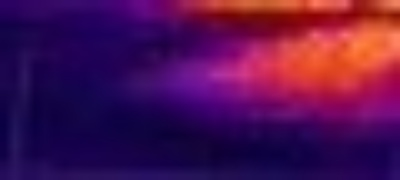Shadow: (1, 1, 212, 180), (213, 98, 400, 180)
